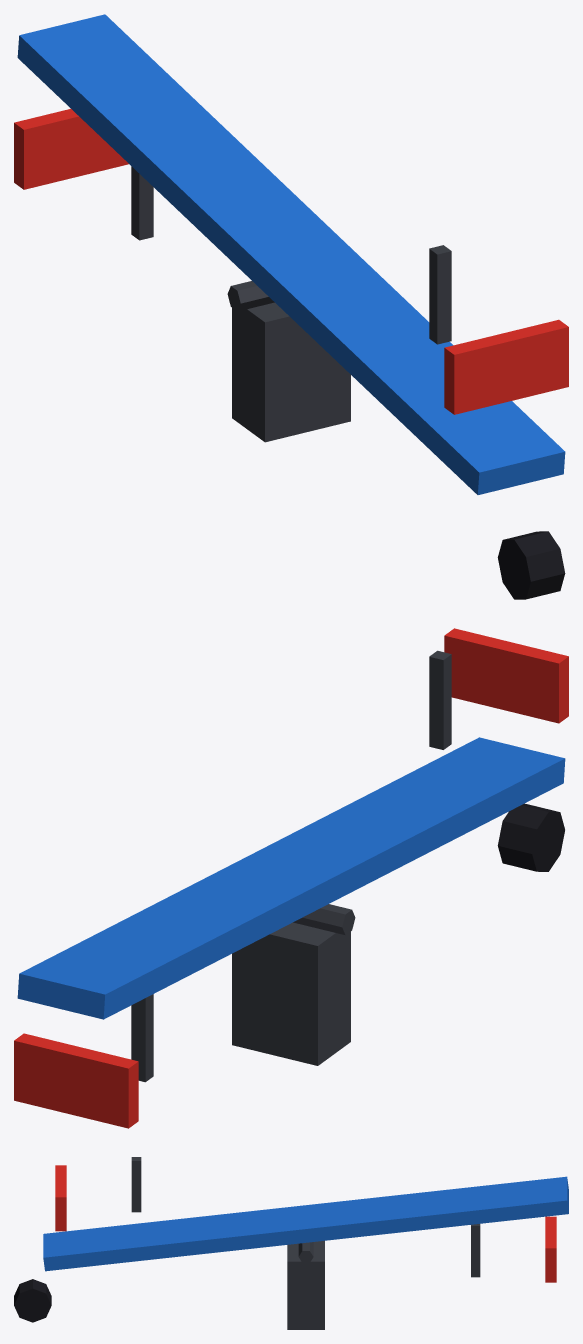
The model's file is seesaw.glb.
3 renders of one model, top to bottom at view 1: azimuth 30°, elevation 25°; view 2: azimuth 150°, elevation 25°; view 3: azimuth 270°, elevation 25°, orthographic. The views are drawn at different scales.
Parts seen in each view (by area): view 1: seesaw; view 2: seesaw; view 3: seesaw.
Boxes of the visible parts, x1,y1,x2,y2 form: seesaw: (14, 14, 568, 599); seesaw: (14, 628, 568, 1128); seesaw: (14, 1157, 568, 1329).
Size of the model in its own units: 0.4 by 0.93 by 2.94.
